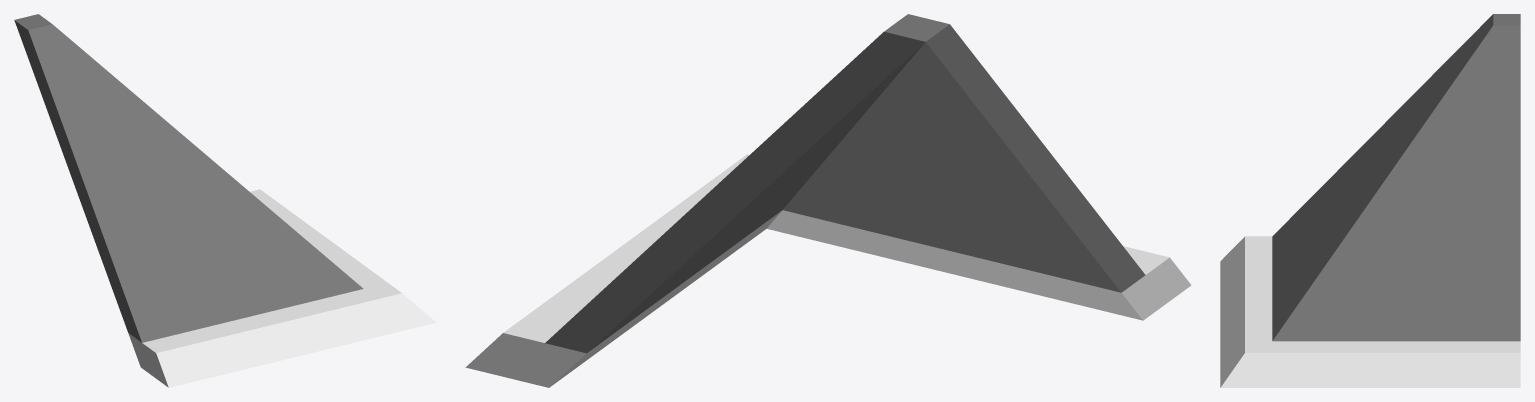
File: RoofSlopeCorner.fbx
3 renders of one model, left to right at view 1: azimuth 30°, elevation 25°; view 2: azimuth 150°, elevation 25°; view 3: azimuth 270°, elevation 25°, orthographic. The views are drawn at different scales.
Parts seen in each view (by area): view 1: RoofSlopeCorner; view 2: RoofSlopeCorner; view 3: RoofSlopeCorner.
Boxes of the visible parts, x1=… form: RoofSlopeCorner: x1=14, y1=14, x2=436, y2=387; RoofSlopeCorner: x1=465, y1=14, x2=1191, y2=387; RoofSlopeCorner: x1=1220, y1=14, x2=1520, y2=387.
Size of the model in its own units: 110 by 100 by 110.
